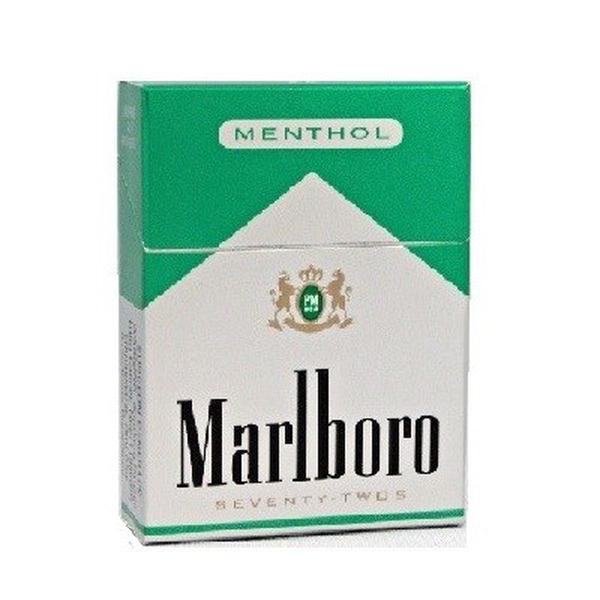marlboro_mentol: (145, 82, 462, 529)
